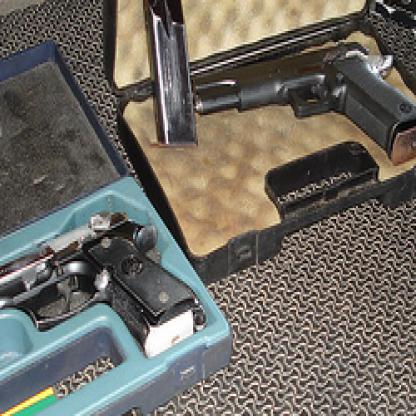gun: (0, 199, 202, 397), (183, 29, 414, 170)
